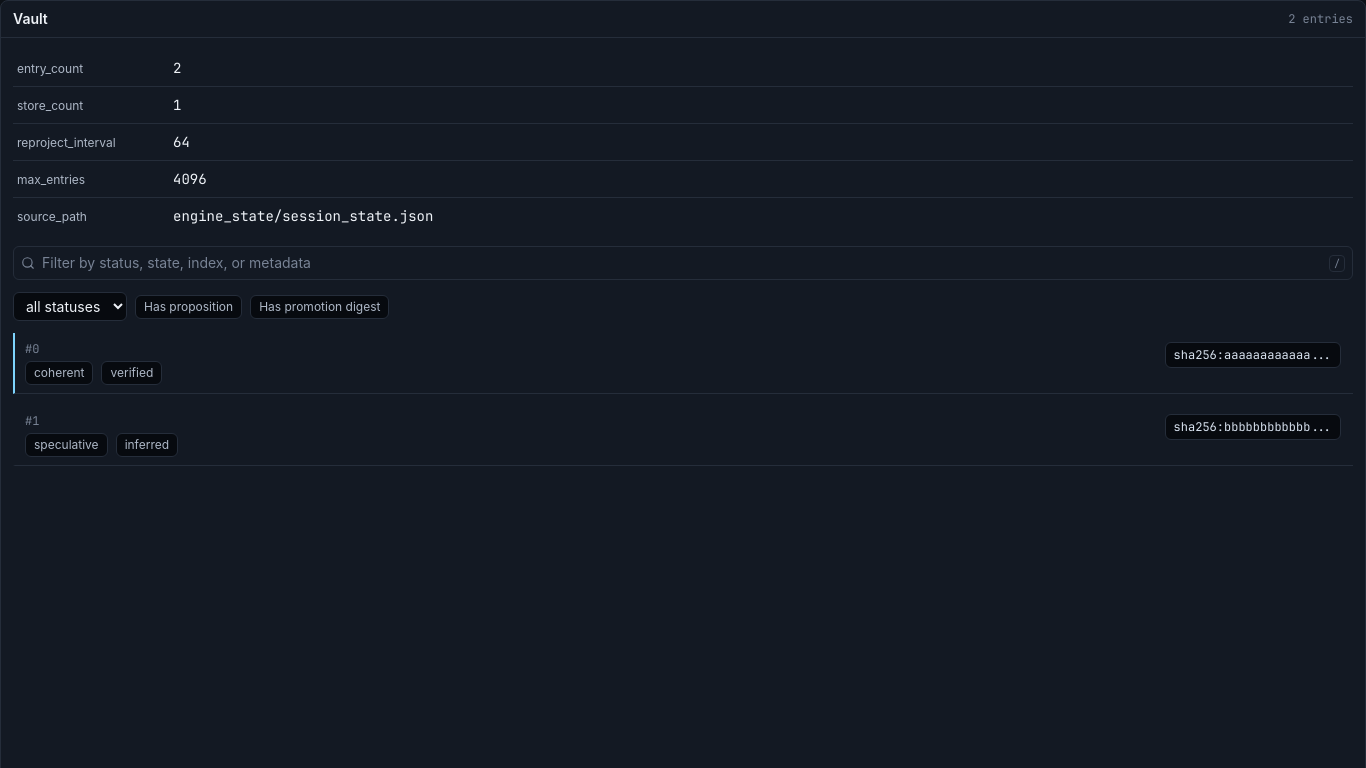
Test: VaultRoute › text search reaches metadata values, not just epistemic labels
Expected: the text "entry_count" is shown, [17,61,83,76]
Type "beauty" into the search field with placeholder "Filter by status, state, index, or metadata" at coordinates (683, 263), box [13,246,1353,280]
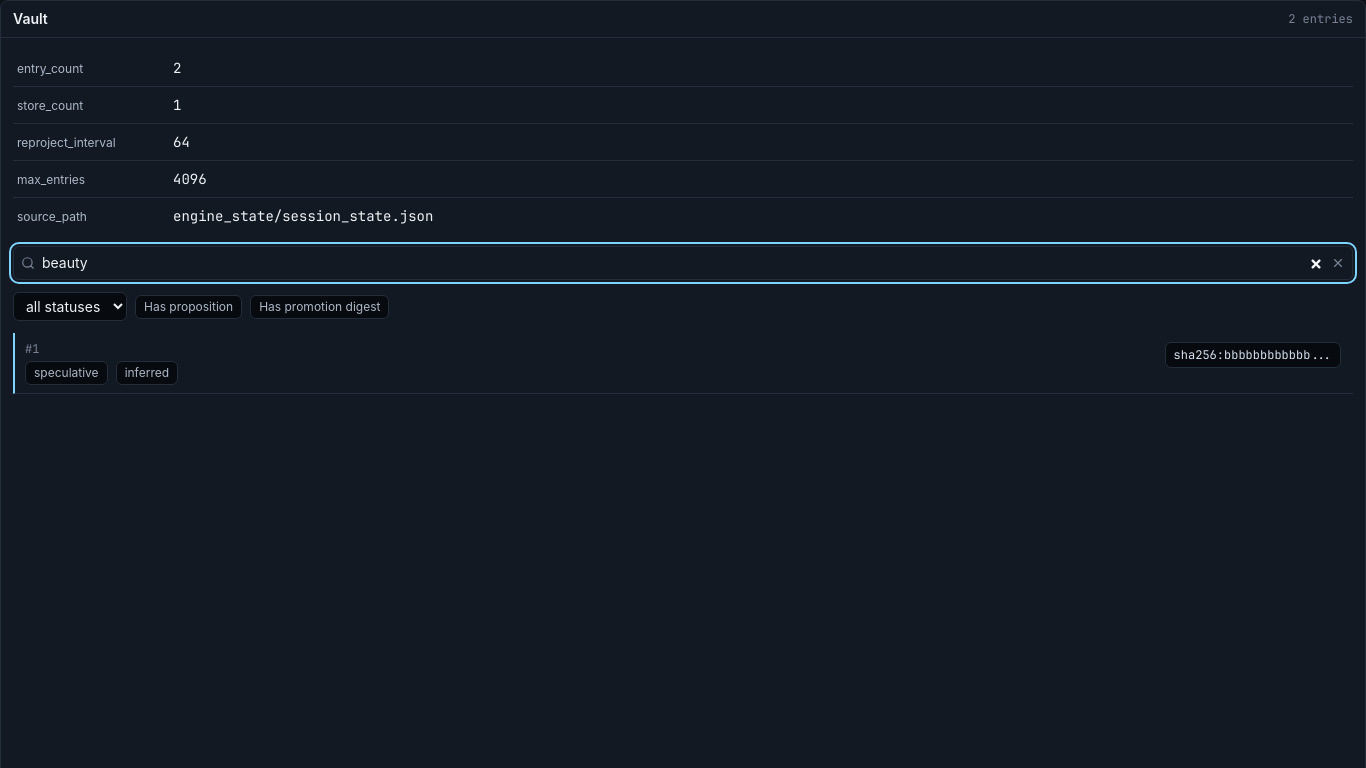
Expected: the option shows "inferred", [13,333,1353,394]
Now the number of options is 1, box [13,333,1353,394]
